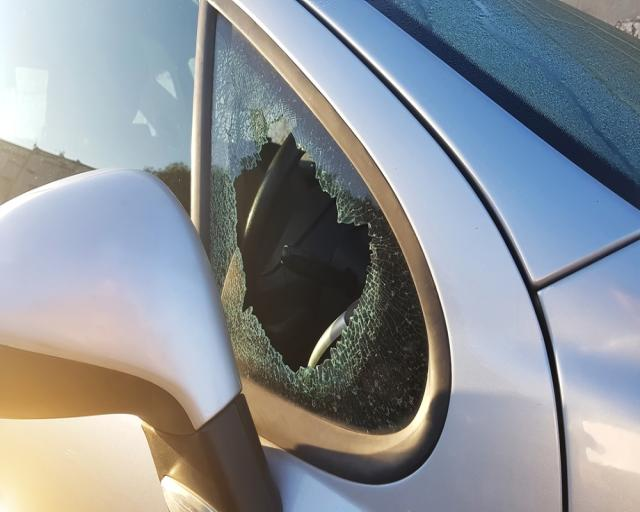glass shatter: (208, 11, 429, 436)
